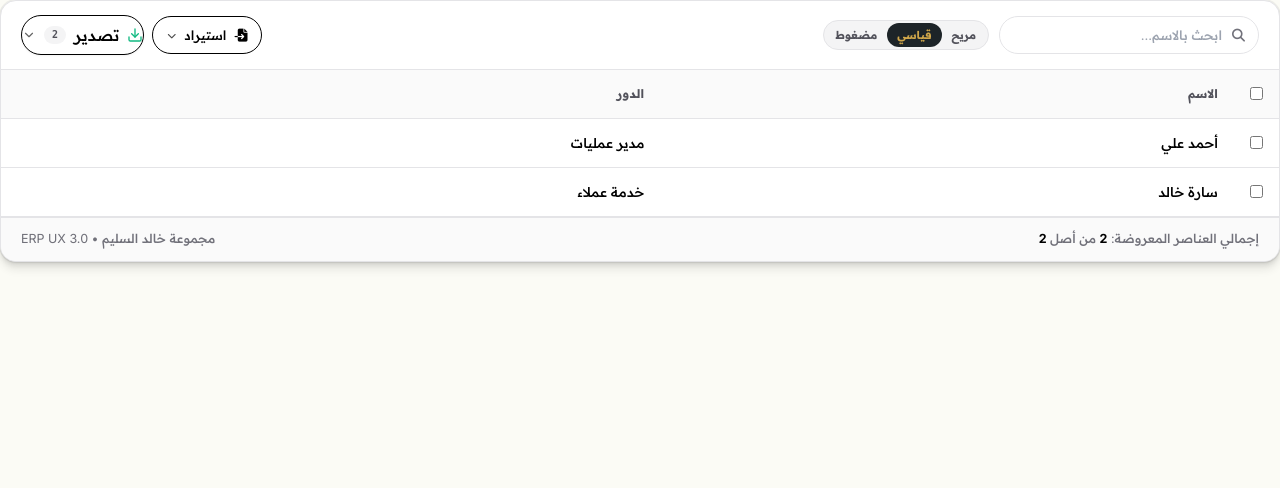
Test case: DataTable Component › should render empty state when no data matches filter
This screenshot has width=1280, height=488.
Type "شخص غير موجود" into the field with placeholder "ابحث بالاسم..." at (1129, 35), box x1=999 y1=16 x2=1259 y2=54
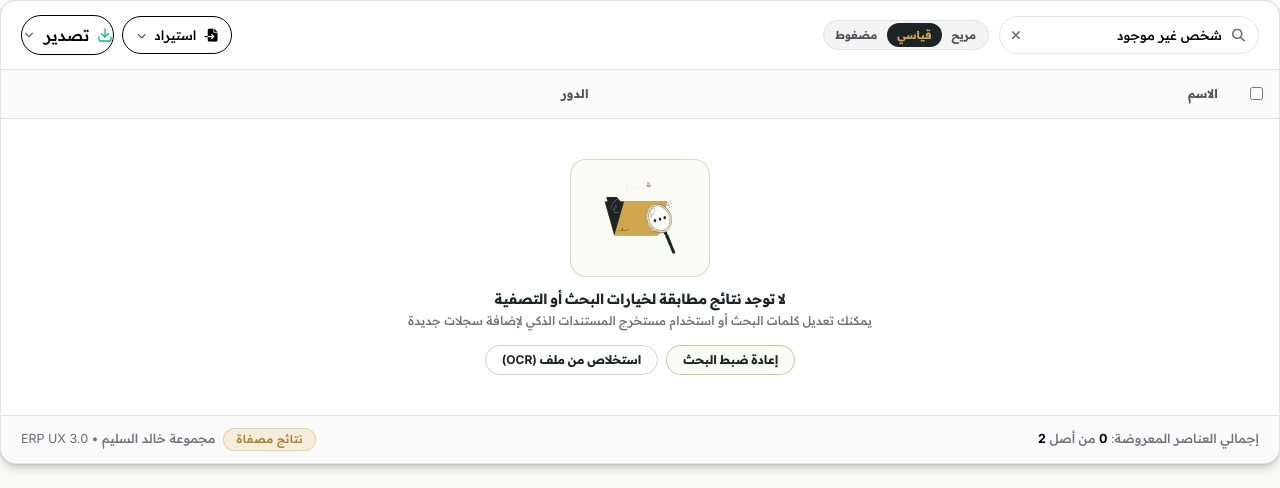
Expected: the text "لا توجد نتائج مطابقة لخيارات البحث أو التصفية" is shown, x1=494 y1=290 x2=786 y2=307
